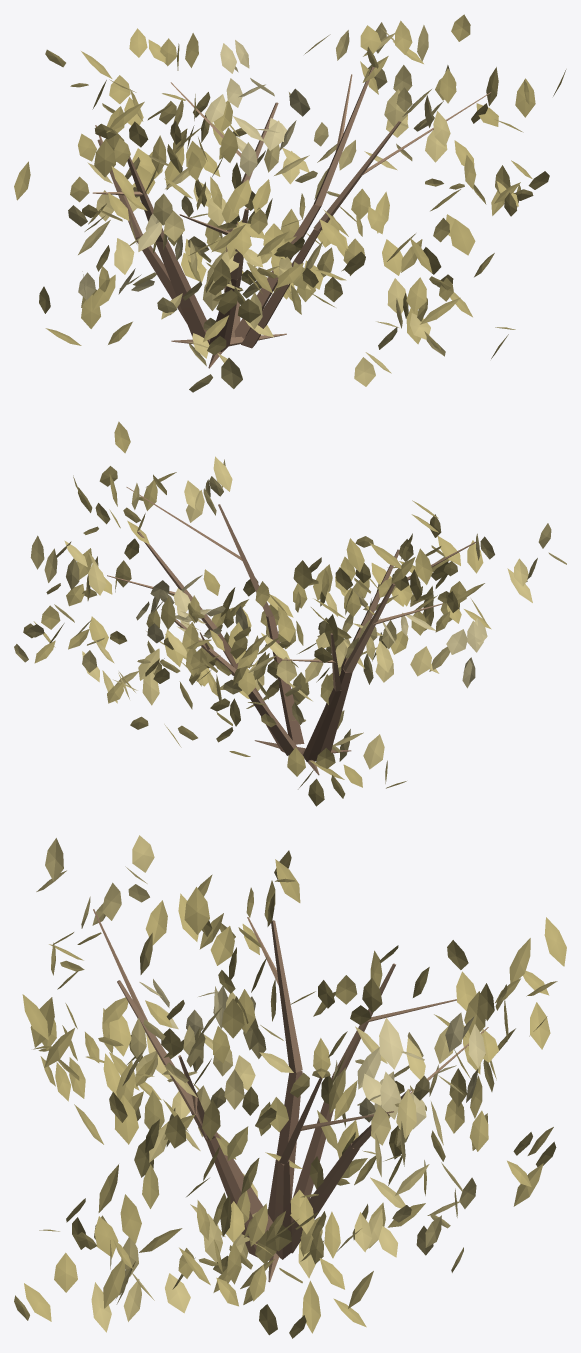
The model's file is bush_3d_05_yellow.glb.
The picture shows the model from 3 angles, top to bottom: view 1: azimuth 30°, elevation 25°; view 2: azimuth 150°, elevation 25°; view 3: azimuth 270°, elevation 25°; orthographic projection. The views are drawn at different scales.
Visible parts, largest first — view 1: bush_3d_05_yellow_foliage, bush_3d_05_yellow_wood; view 2: bush_3d_05_yellow_foliage, bush_3d_05_yellow_wood; view 3: bush_3d_05_yellow_foliage, bush_3d_05_yellow_wood.
Boxes of the visible parts, x1,y1,x2,y2 form: bush_3d_05_yellow_foliage: (14, 14, 566, 392); bush_3d_05_yellow_wood: (92, 66, 490, 368); bush_3d_05_yellow_foliage: (14, 421, 566, 806); bush_3d_05_yellow_wood: (107, 487, 475, 775); bush_3d_05_yellow_foliage: (14, 835, 566, 1338); bush_3d_05_yellow_wood: (93, 909, 488, 1282).
Size of the model in its own units: 3 by 1.65 by 2.3.
